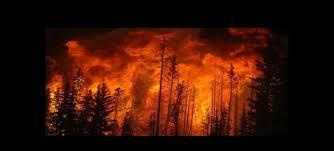fire: (48, 30, 269, 131)
